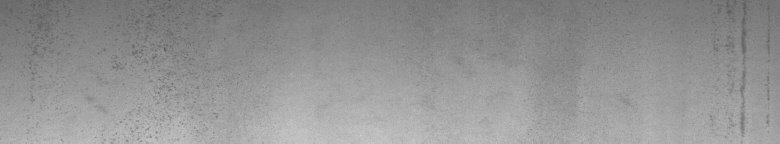ib: (25, 8, 223, 136)
